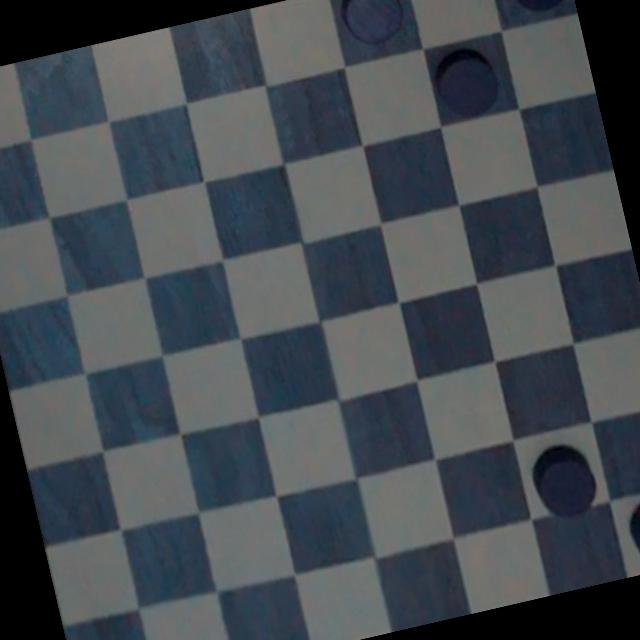BOARD: (0, 0, 640, 640)
black: (516, 432, 608, 528), (428, 41, 508, 122), (333, 0, 415, 56), (621, 487, 640, 575), (493, 0, 575, 19)
